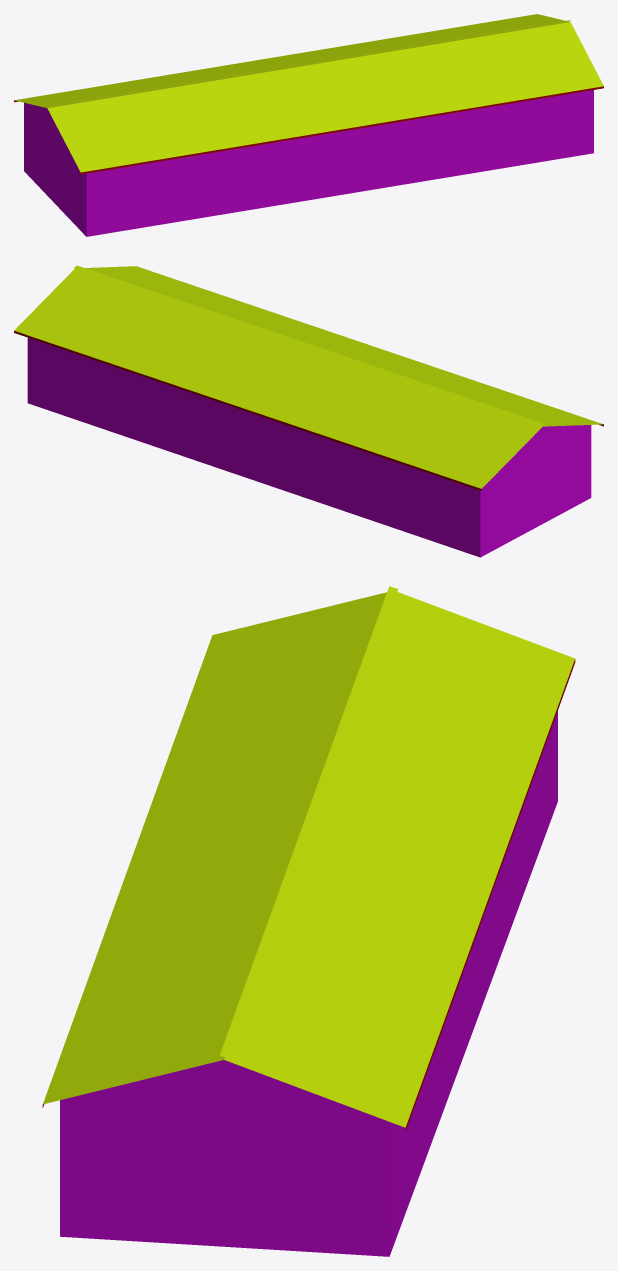
Rendered from rmc_24.glb.
3 renders of one model, top to bottom at view 1: azimuth 30°, elevation 25°; view 2: azimuth 150°, elevation 25°; view 3: azimuth 270°, elevation 25°, orthographic. The views are drawn at different scales.
Parts seen in each view (by area): view 1: rmc_24; view 2: rmc_24; view 3: rmc_24.
Part boxes in pixels (x1,y1,x2,y2): rmc_24: (14,14,603,236); rmc_24: (14,265,603,557); rmc_24: (42,586,575,1256).
Size of the model in its own units: 30.69 by 5.75 by 14.02.
